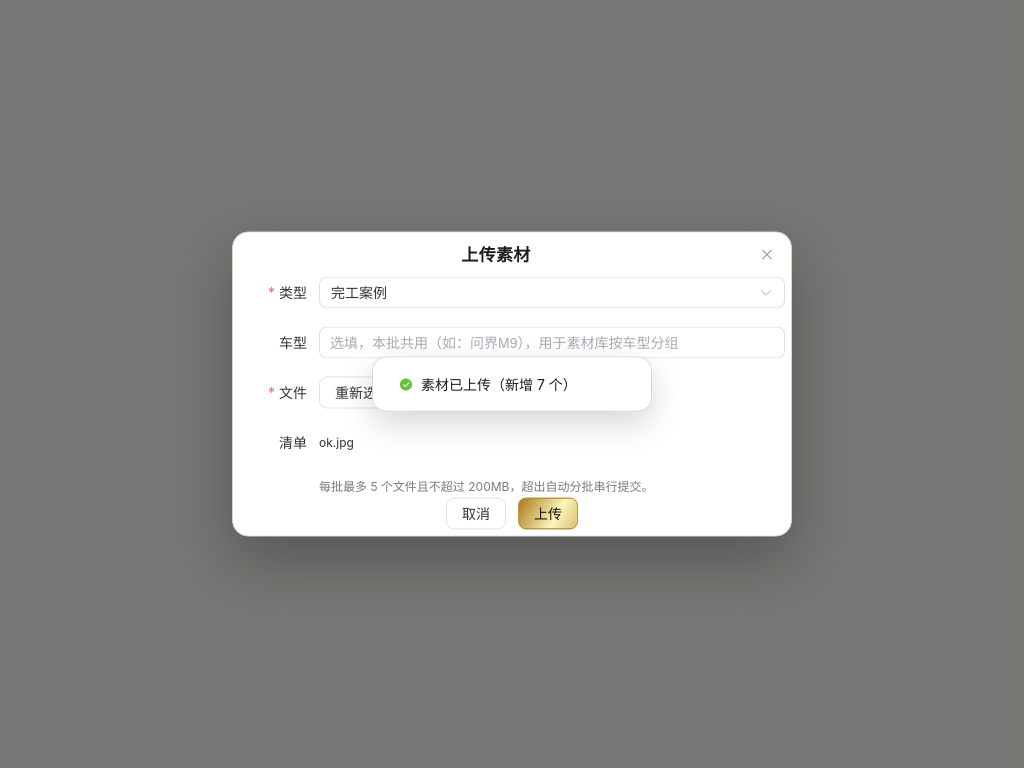
Scenario: AssetsUploadDialog 批量上传（v1.5 T14） › 报告分三段展示：新增/跳过重复（列名）/失败（列名+原因）
Click the button "上传". click: [548, 514]
box: [518, 498, 578, 530]
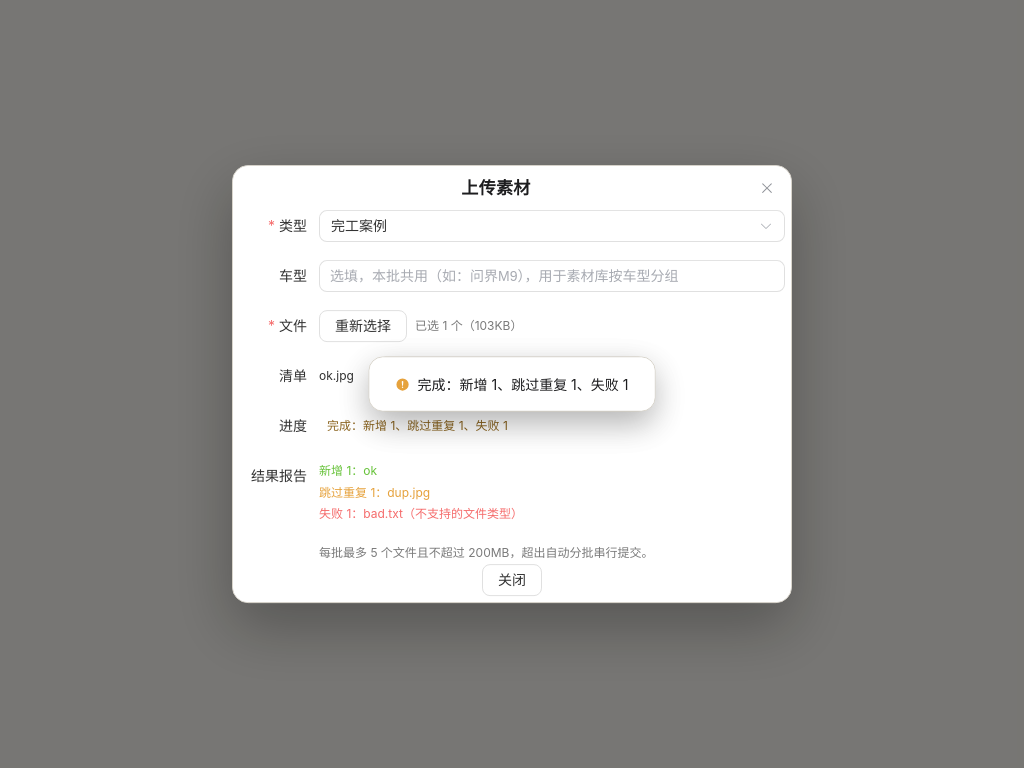
Now the text "新增 1" is shown, box [327, 418, 508, 433]
Now the text "dup.jpg" is shown, box [319, 485, 430, 500]
Now the text "bad.txt（不支持的文件类型）" is shown, box [319, 506, 523, 521]
